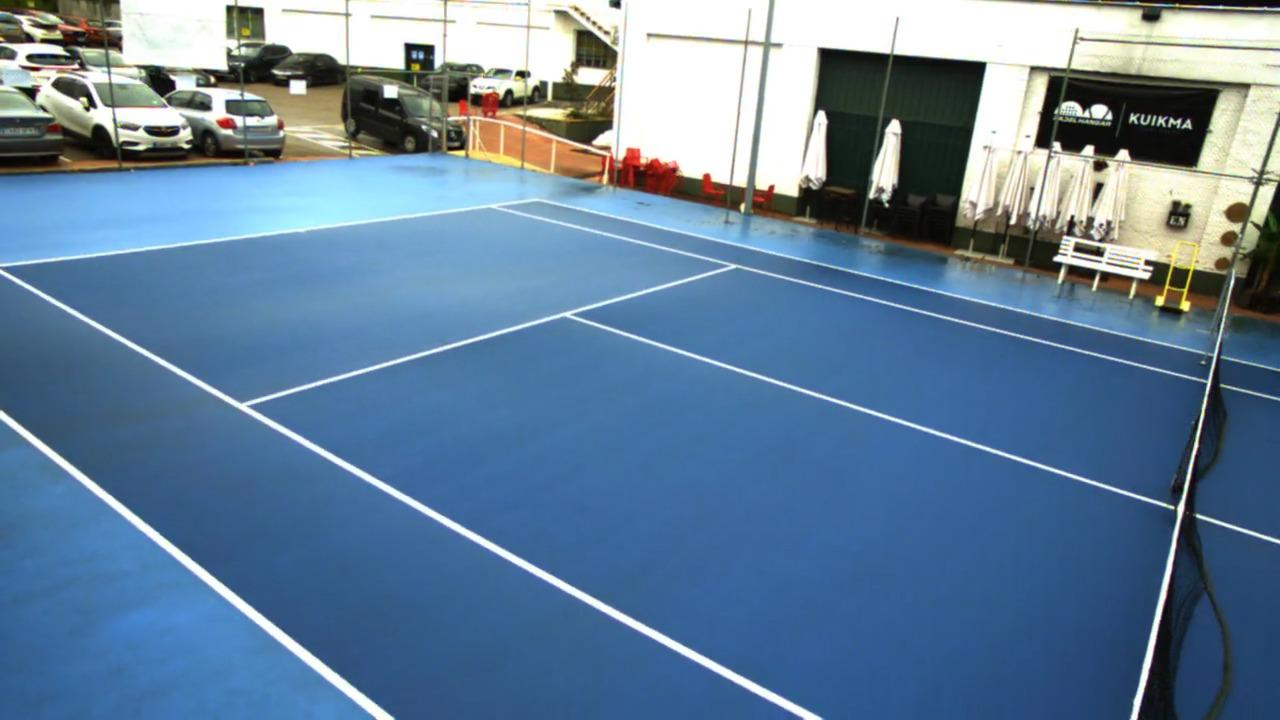cancha_tenis: (0, 203, 1280, 720)
point_f2: (482, 194, 509, 220)
point_fc1: (296, 221, 310, 239)
point_i1: (226, 392, 261, 419)
point_i2: (720, 255, 745, 279)
point_ic1: (554, 303, 587, 327)
